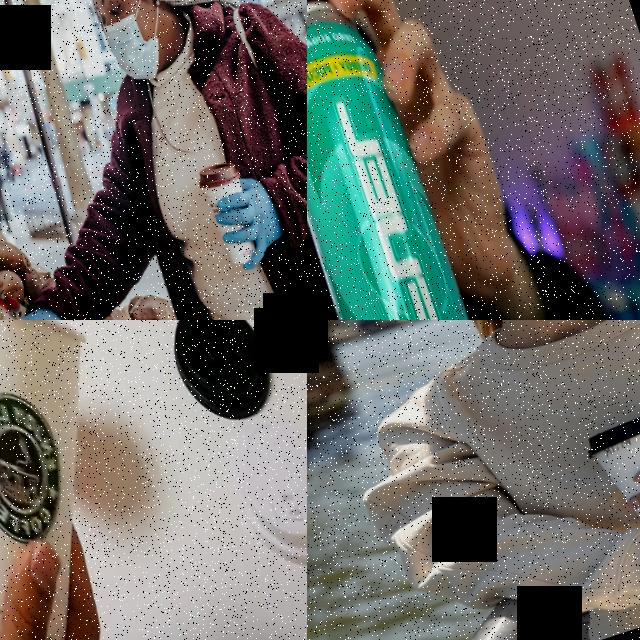can: (307, 0, 541, 320)
cup: (0, 320, 188, 640), (577, 395, 640, 544), (195, 156, 268, 270)
